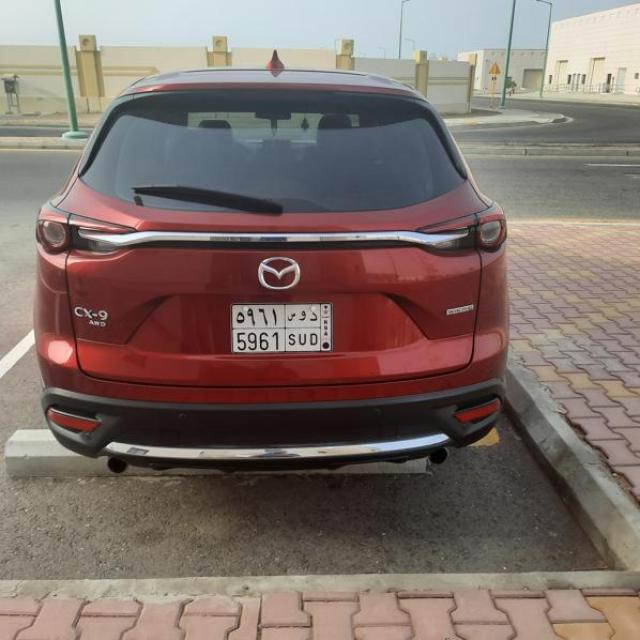license_plate: (229, 302, 335, 354)
